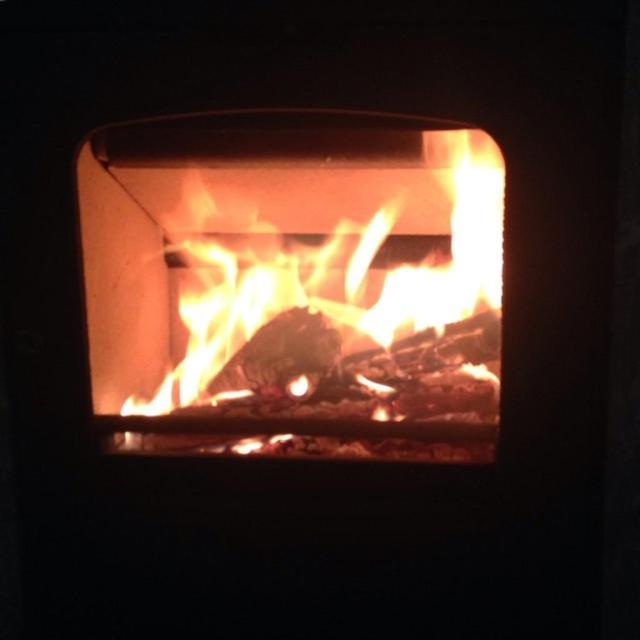Fire: (107, 144, 507, 424)
